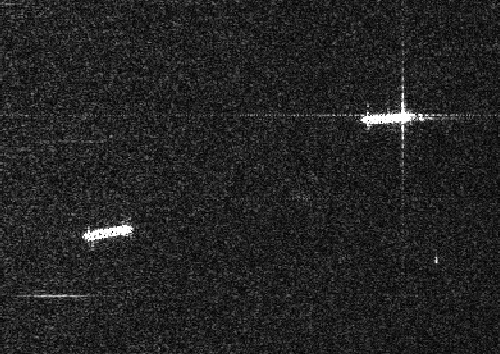ship: (360, 108, 416, 129), (82, 224, 135, 241)
